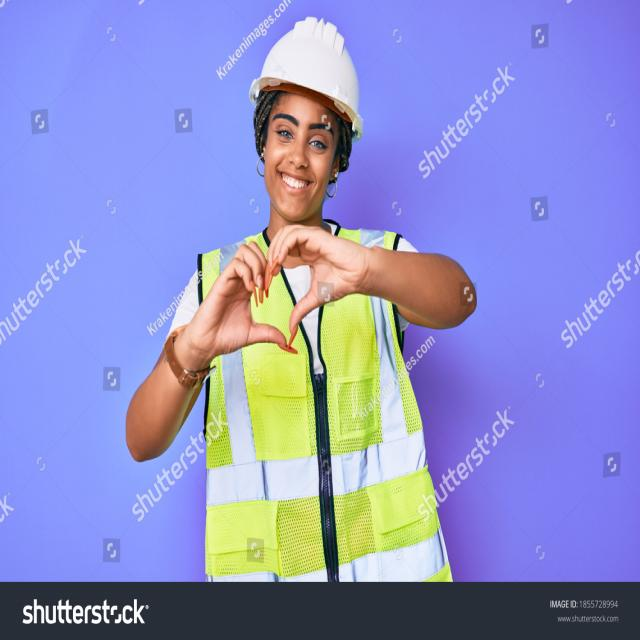Reflective-Jacket: (199, 229, 448, 583)
Safety-Helmet: (248, 18, 364, 136)
